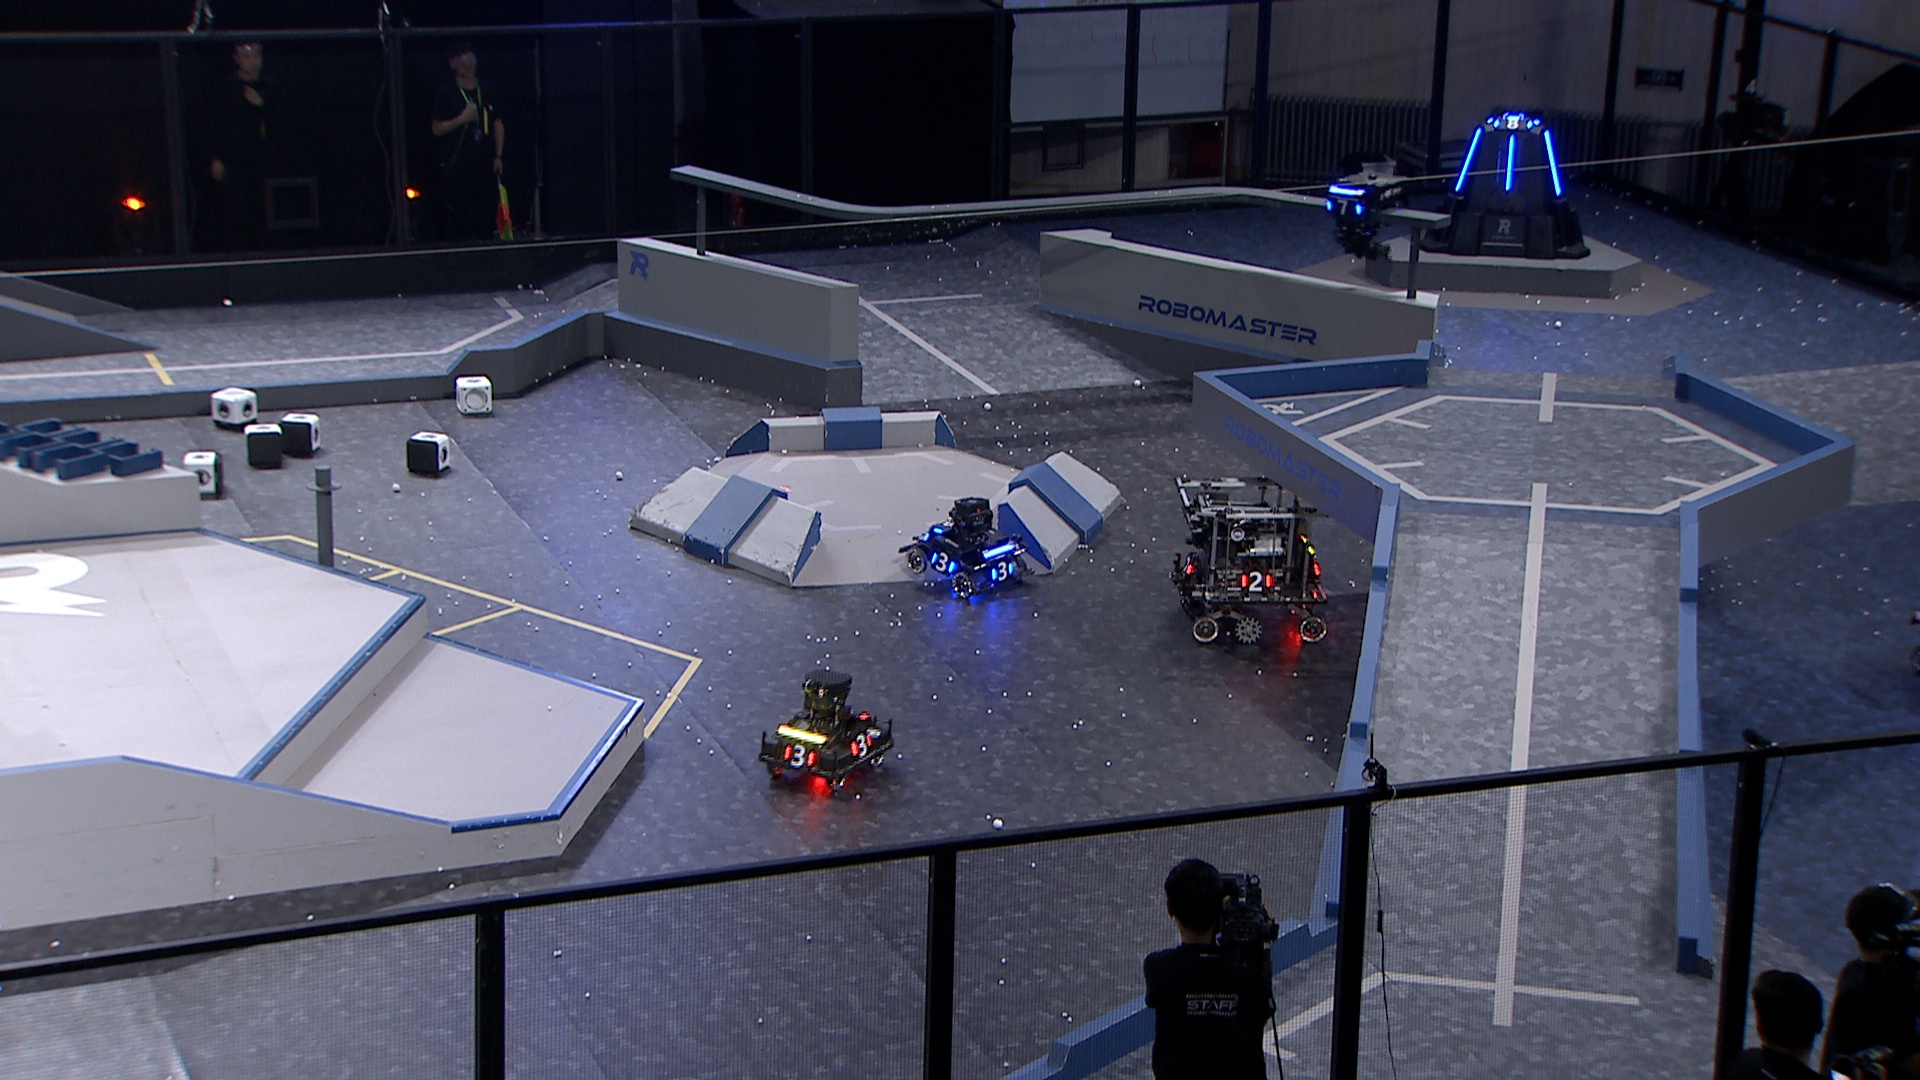armor: (1451, 127, 1484, 194), (1542, 129, 1563, 196), (1501, 131, 1518, 194), (783, 740, 818, 769), (1324, 195, 1367, 216), (1490, 109, 1534, 131), (1238, 567, 1273, 593), (928, 550, 960, 574), (988, 556, 1015, 583), (851, 731, 874, 760), (928, 517, 956, 535), (1178, 555, 1196, 582)
base: (1408, 105, 1594, 264)
car: (1168, 472, 1332, 647), (757, 669, 891, 796), (899, 495, 1030, 603)
watcher: (1317, 162, 1411, 262)
